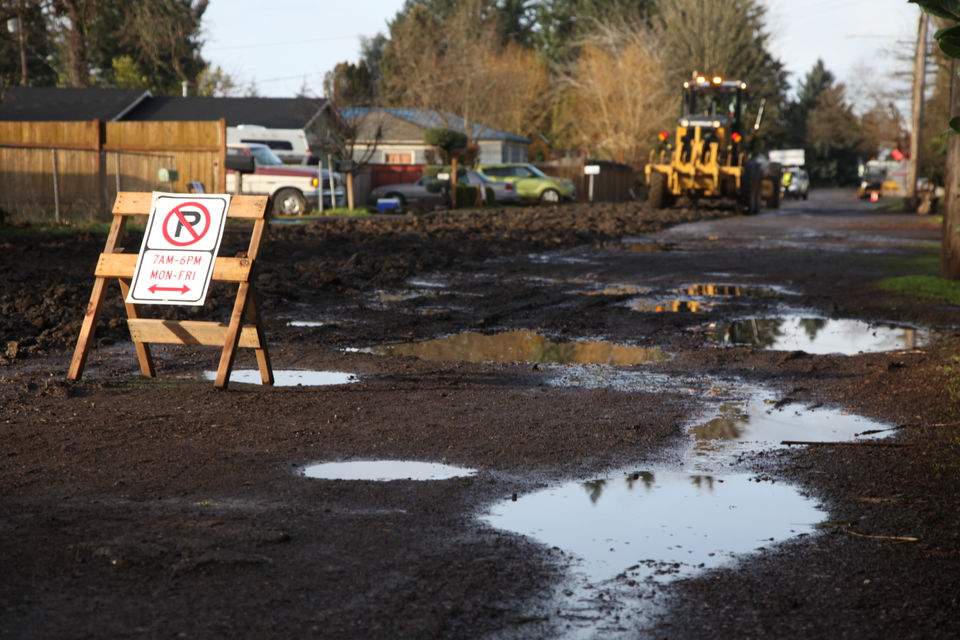pothole: (505, 449, 814, 573), (561, 357, 896, 455), (387, 321, 659, 369), (703, 307, 927, 360), (602, 274, 796, 316), (300, 450, 476, 483), (198, 358, 357, 389), (599, 236, 767, 255), (370, 279, 472, 305), (276, 314, 323, 328), (342, 343, 380, 355)
